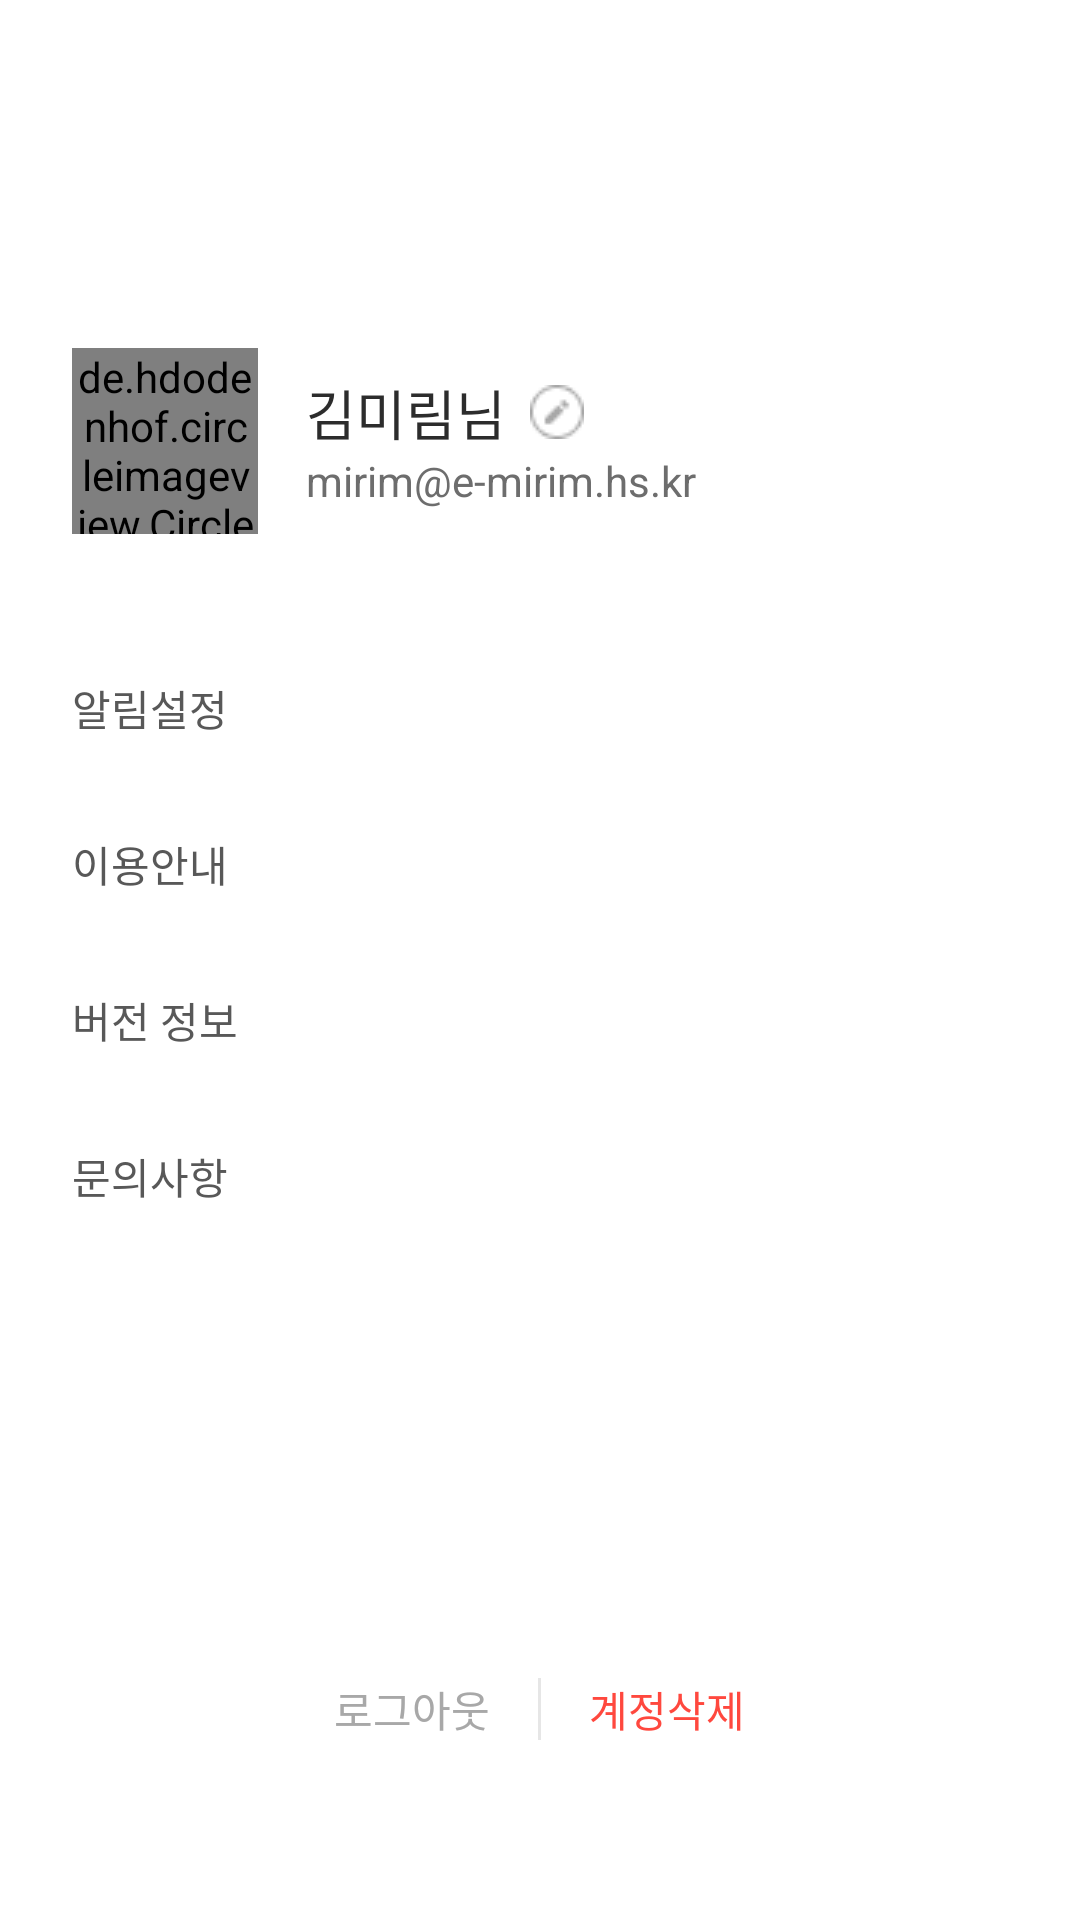

Icon bounding boxes for this 1080px x 1920px phone screenshot, format (x1, y1, x2, y2):
edit info: (530, 385, 584, 439)
